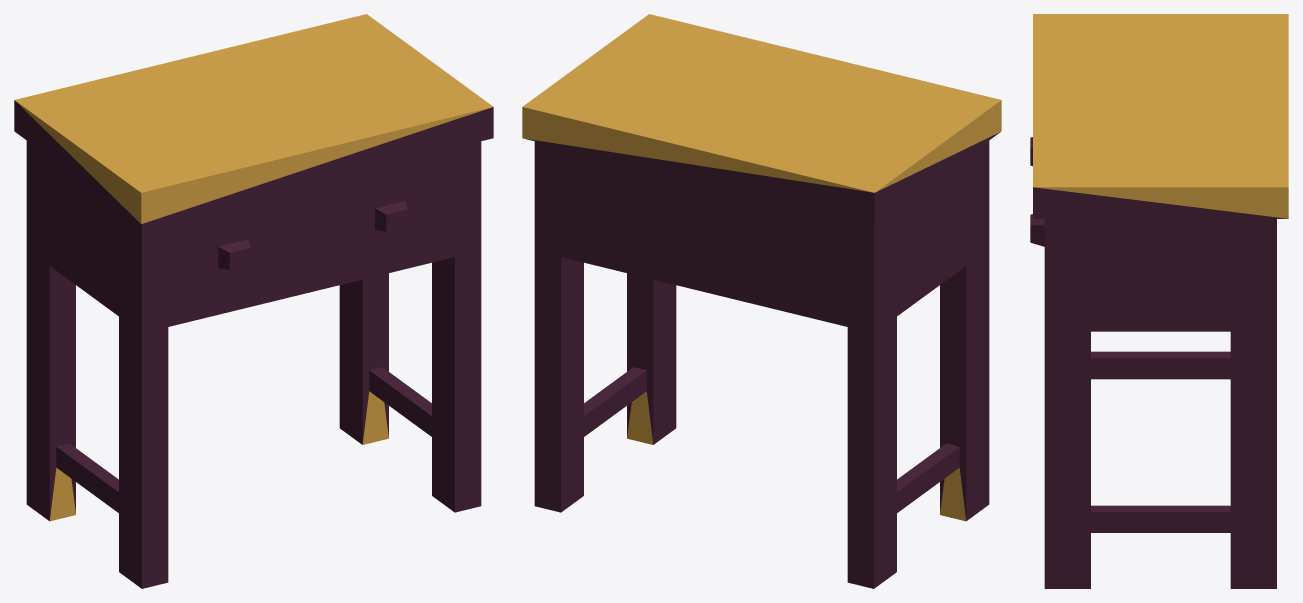
The model's file is sideTableDrawers.glb.
3 views of the same model, side by side, from view 1: azimuth 30°, elevation 25°; view 2: azimuth 150°, elevation 25°; view 3: azimuth 270°, elevation 25° (orthographic).
Visible parts, largest first — view 1: sideTableDrawers(Clone), drawerLeft, drawerRight; view 2: sideTableDrawers(Clone); view 3: sideTableDrawers(Clone), drawerRight.
Part boxes in pixels (x1,y1,x2,y2): sideTableDrawers(Clone): (14, 14, 493, 588); drawerLeft: (168, 212, 298, 295); drawerRight: (325, 173, 454, 257); sideTableDrawers(Clone): (522, 14, 1001, 588); sideTableDrawers(Clone): (1033, 14, 1288, 588); drawerRight: (1030, 214, 1044, 246).
Size of the model in its own units: 0.6791 by 0.74 by 0.4279.
